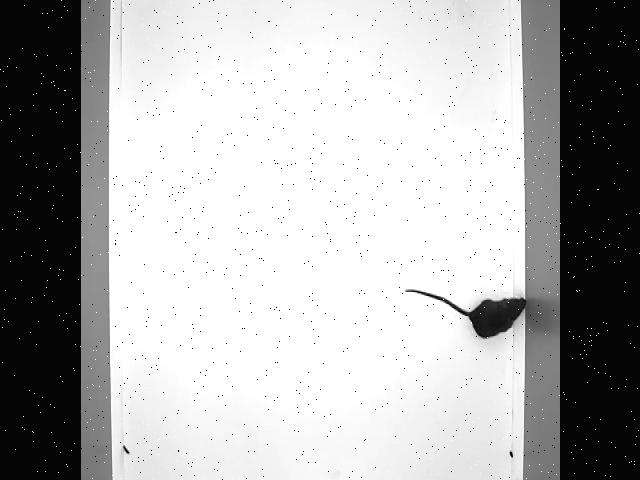Tikus: (402, 287, 526, 342)
